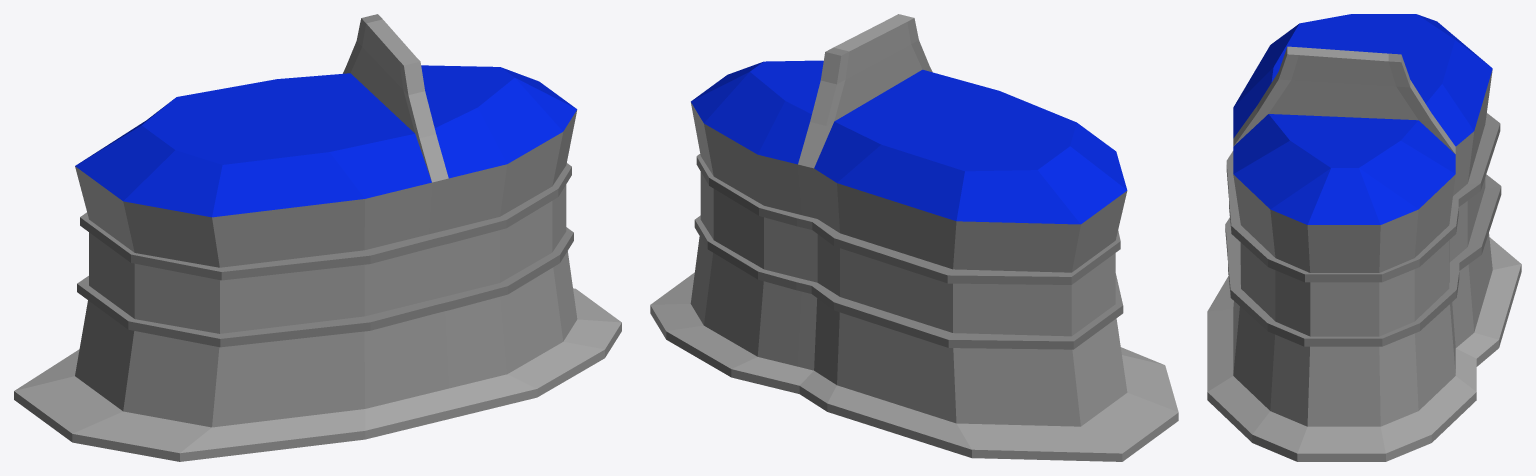
Rendered from p-bld-background-2.glb.
3 renders of one model, left to right at view 1: azimuth 30°, elevation 25°; view 2: azimuth 150°, elevation 25°; view 3: azimuth 270°, elevation 25°, orthographic. The views are drawn at different scales.
Parts seen in each view (by area): view 1: Cube; view 2: Cube; view 3: Cube.
Boxes of the visible parts, <box> form: Cube: <box>14,14,621,461</box>; Cube: <box>650,14,1178,461</box>; Cube: <box>1207,14,1521,461</box>.
Bounding box in the file's own units: 31.46 × 18.5 × 16.94.
